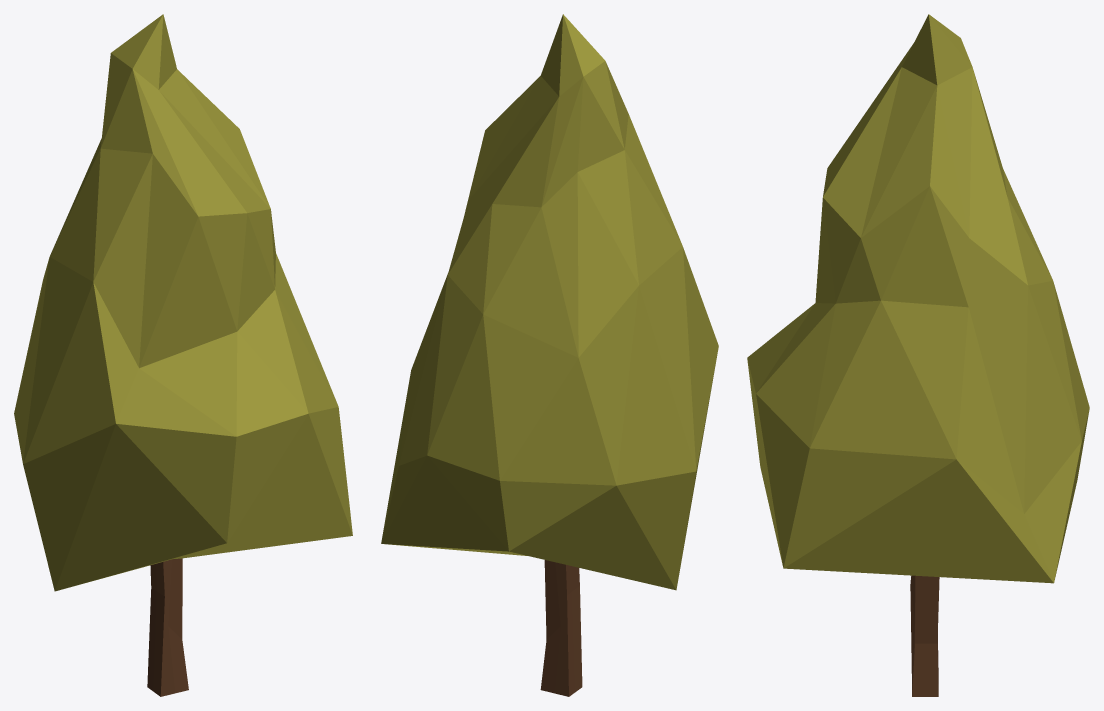
The model's file is Tree_16_Yellow.fbx.
3 renders of one model, left to right at view 1: azimuth 30°, elevation 25°; view 2: azimuth 150°, elevation 25°; view 3: azimuth 270°, elevation 25°, orthographic.
Parts seen in each view (by area): view 1: Tree_16_Yellow_Part_1, Tree_16_Yellow_Part_2; view 2: Tree_16_Yellow_Part_1, Tree_16_Yellow_Part_2; view 3: Tree_16_Yellow_Part_1, Tree_16_Yellow_Part_2.
Part boxes in pixels (left/top/right/bottom): Tree_16_Yellow_Part_1: left=14, top=14, right=352, bottom=591; Tree_16_Yellow_Part_2: left=147, top=558, right=188, bottom=696; Tree_16_Yellow_Part_1: left=381, top=14, right=718, bottom=590; Tree_16_Yellow_Part_2: left=540, top=560, right=582, bottom=696; Tree_16_Yellow_Part_1: left=747, top=14, right=1089, bottom=583; Tree_16_Yellow_Part_2: left=910, top=575, right=939, bottom=696.
Bounding box in the file's own units: 339 × 797 × 367.
